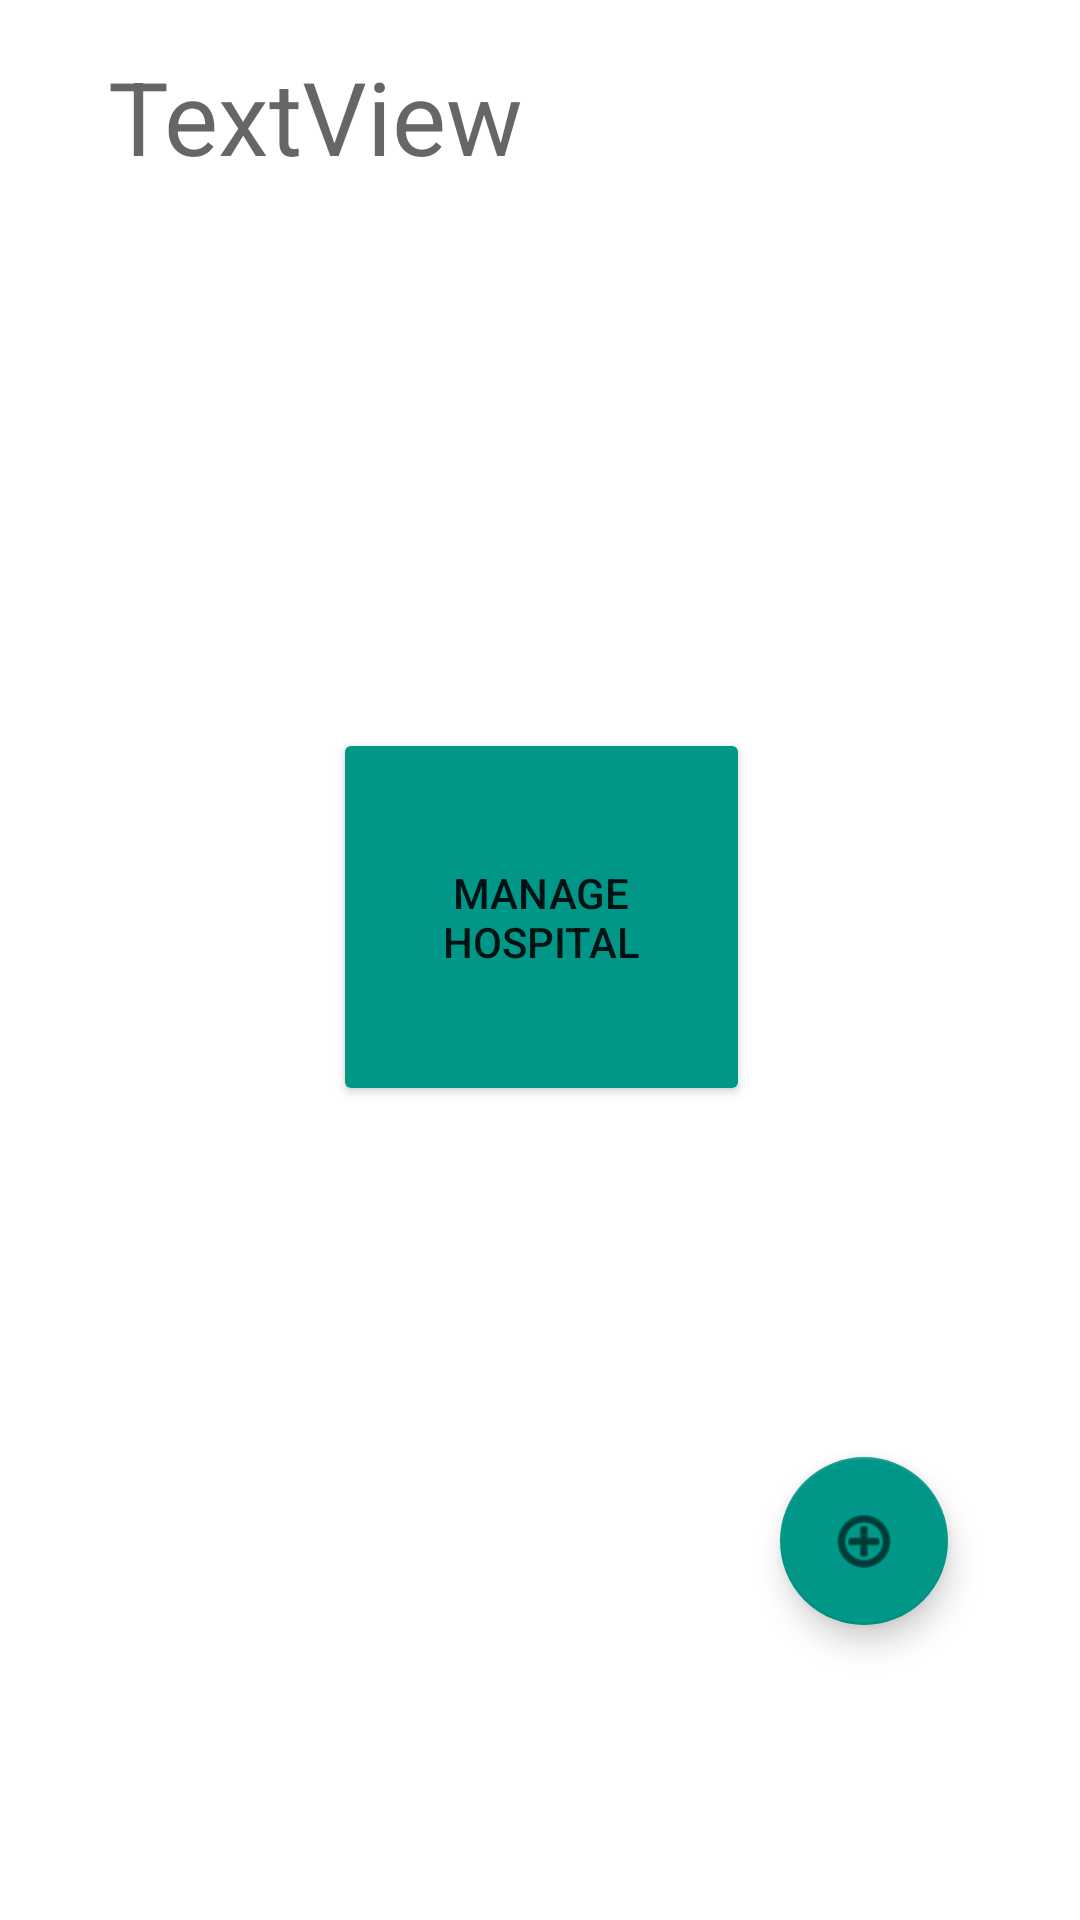

Locate icon controls on the screen. Image size 1080×1920, boxes as region(x1, y1, x2, y2).
add: region(780, 1457, 948, 1625)
